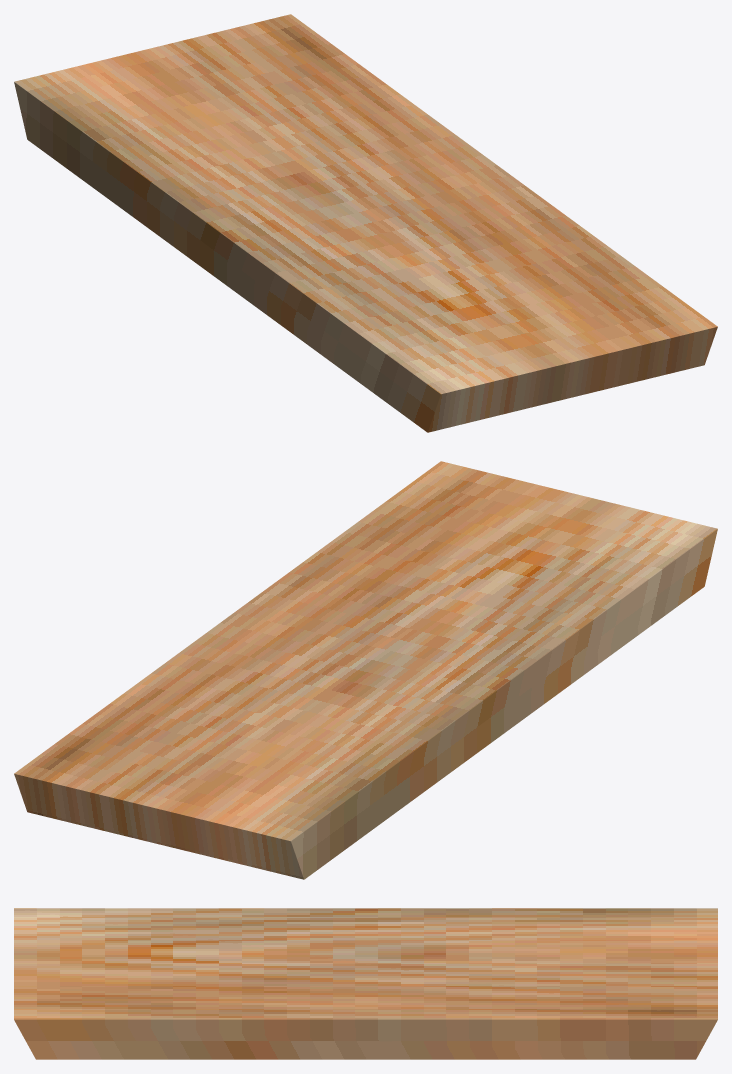
Rendered from Tilt_bake.dae.
3 views of the same model, one above another, from view 1: azimuth 30°, elevation 25°; view 2: azimuth 150°, elevation 25°; view 3: azimuth 270°, elevation 25° (orthographic). The views are drawn at different scales.
Parts seen in each view (by area): view 1: Node2_display; view 2: Node2_display; view 3: Node2_display.
Part boxes in pixels (left/top/right/bottom): Node2_display: left=14, top=14, right=717, bottom=432; Node2_display: left=14, top=461, right=717, bottom=879; Node2_display: left=14, top=908, right=717, bottom=1059.
Bounding box in the file's own units: 613 × 102 × 1637.
2 materials, 2 textured.
